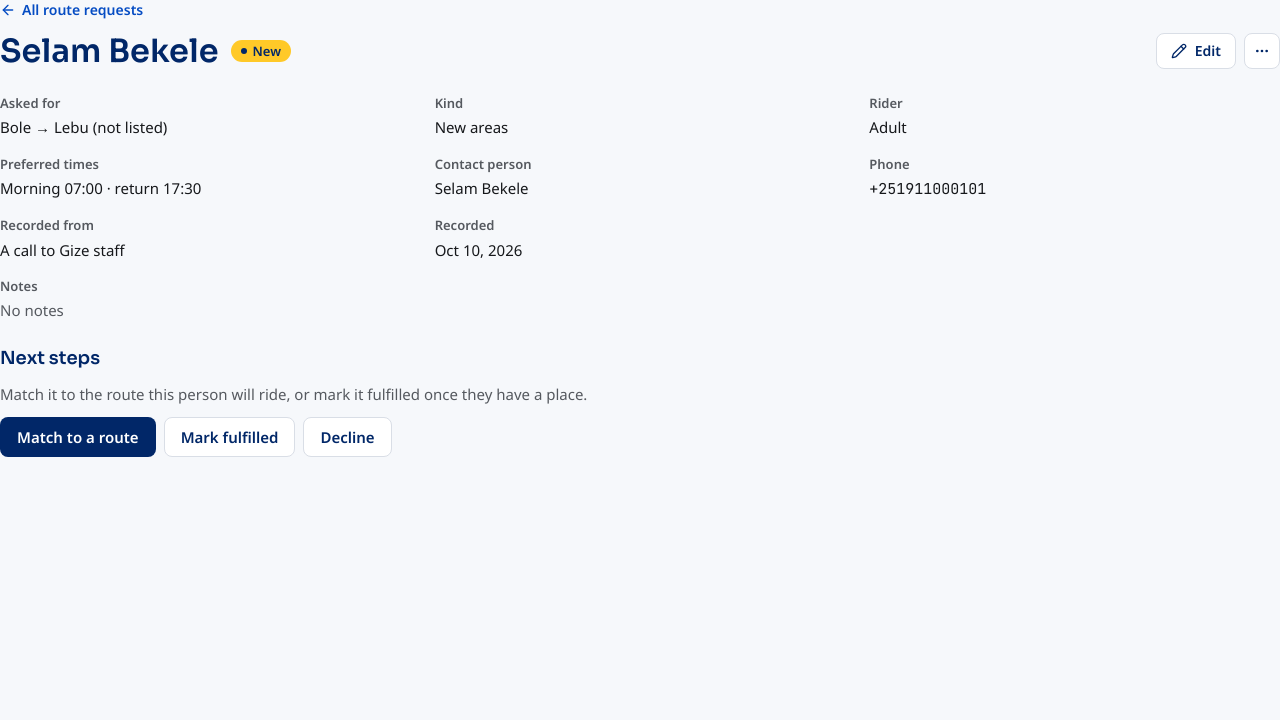
Scenario: RouteRequestDetail › matches to a public route for an adult, then focuses the next steps
The width and height of the screenshot is (1280, 720).
Expected: the heading "Selam Bekele" is shown, x1=0 y1=32 x2=218 y2=70
Click the button "Match to a route".
click(78, 438)  # box x1=0 y1=418 x2=156 y2=458
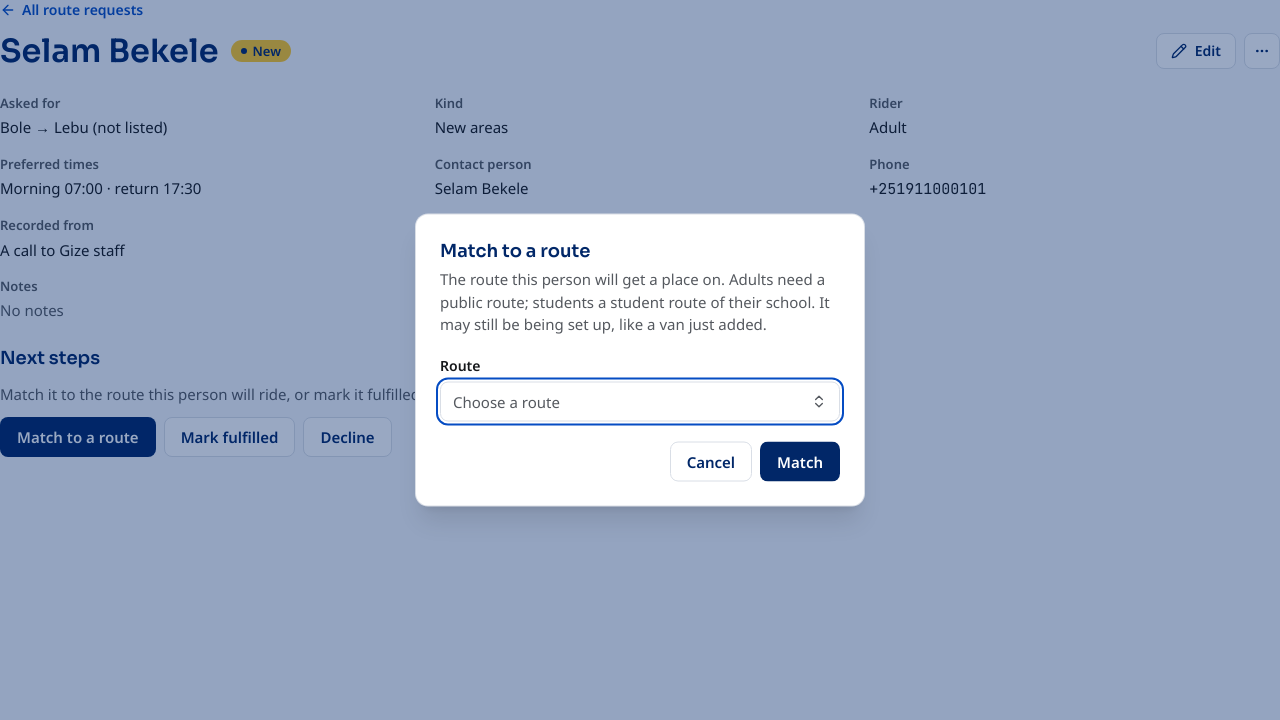
Click the dropdown labelled "route".
click(506, 401)  # box x1=440 y1=382 x2=840 y2=422
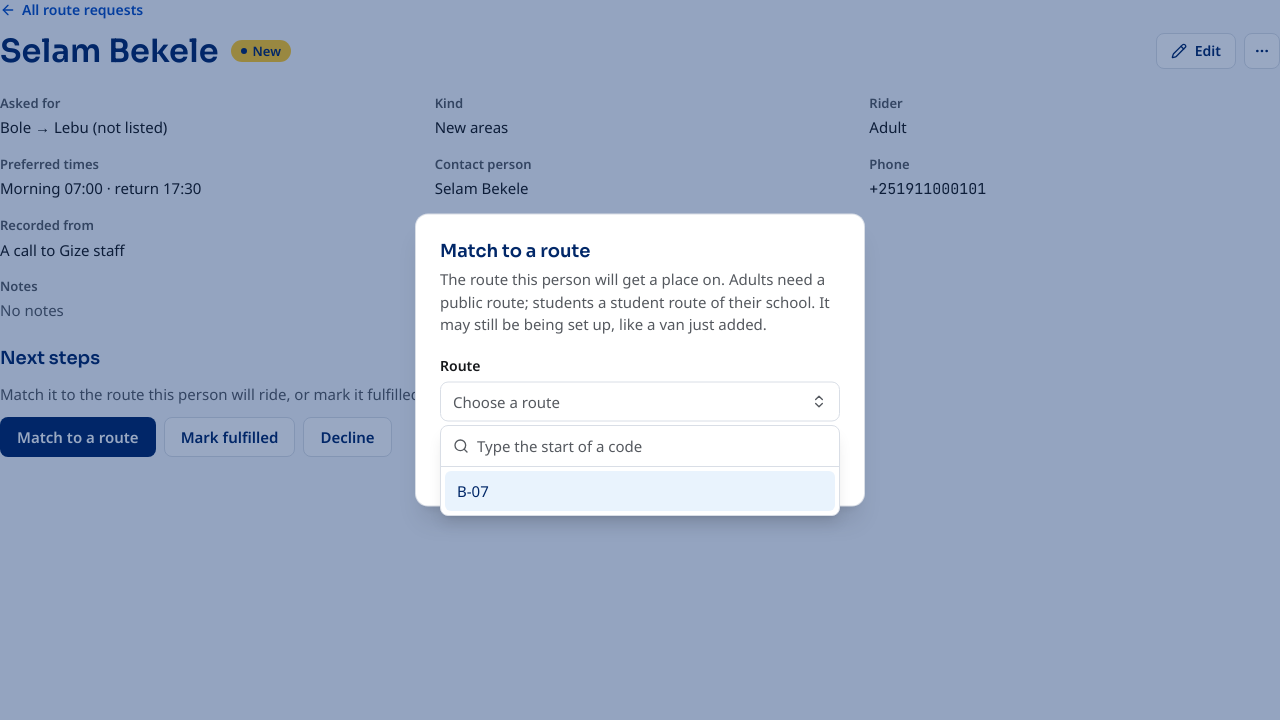
Type "B-" into the dropdown named "Search routes".
click(652, 446); type("B-")  # box x1=477 y1=426 x2=827 y2=466
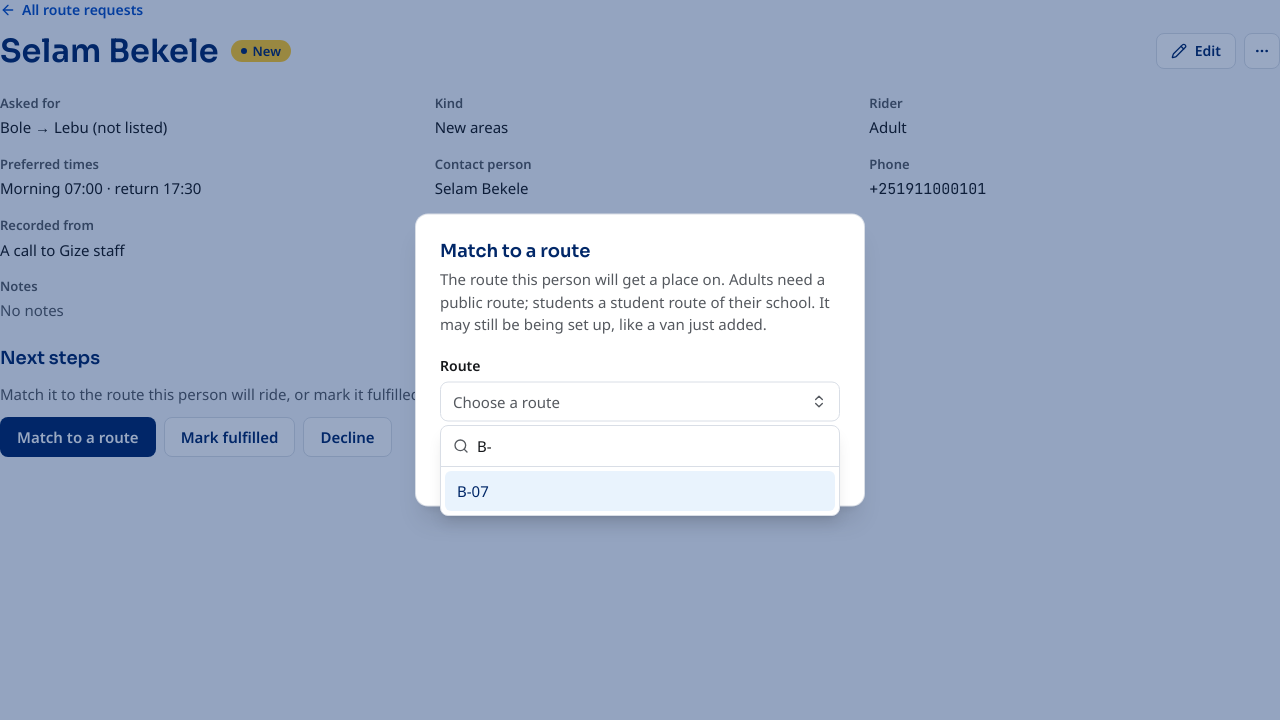
Click the option "B-07".
click(473, 491)  # box x1=445 y1=471 x2=835 y2=511
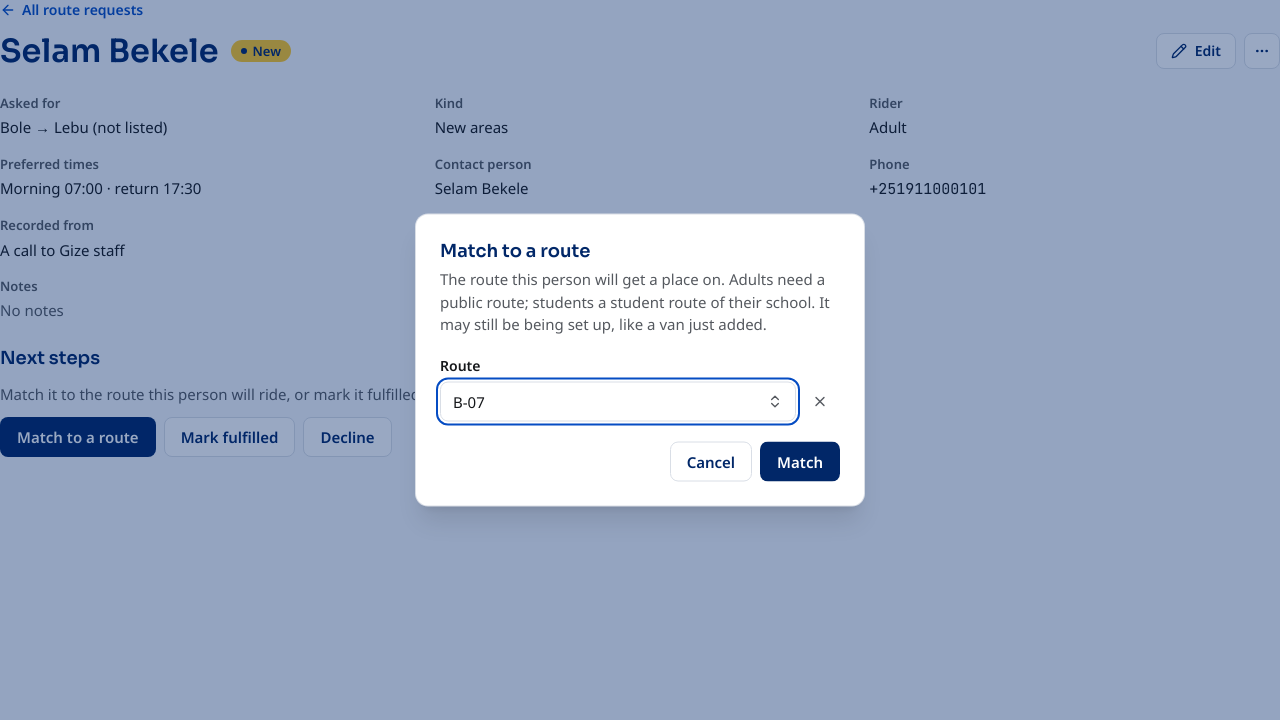
Click the button "Match".
click(800, 462)  # box x1=760 y1=442 x2=840 y2=482
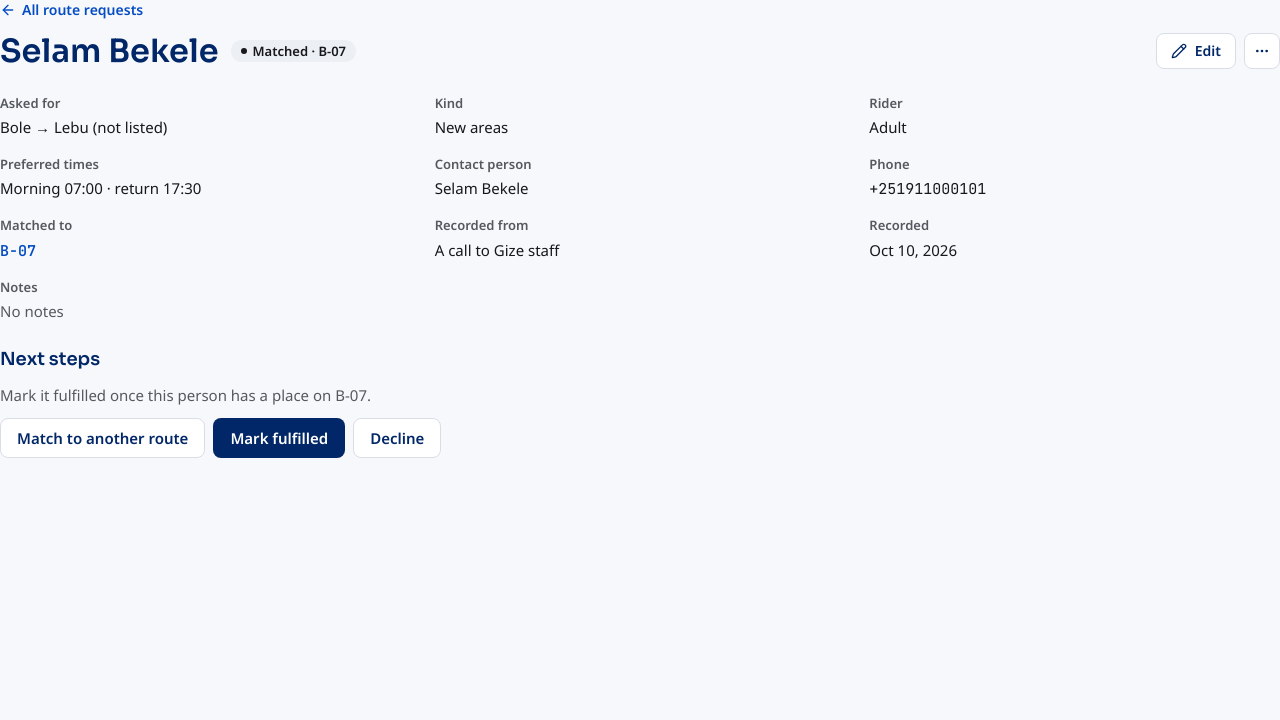
Expected: the button "Match to another route" is shown, x1=0 y1=418 x2=205 y2=458
